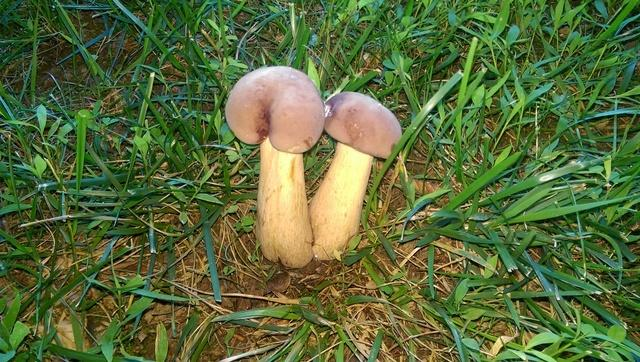Non-edible Mushroom: (224, 64, 325, 268), (308, 90, 403, 261)
